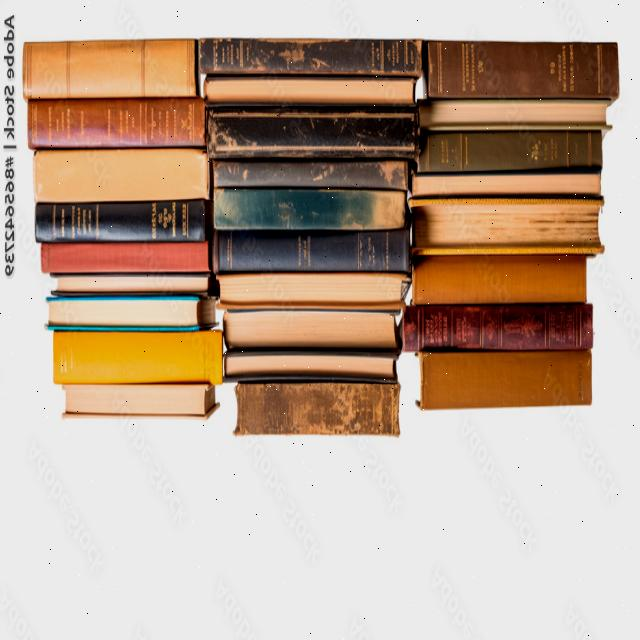book: (421, 42, 617, 102), (415, 352, 591, 412), (205, 110, 413, 158), (53, 330, 221, 385), (197, 39, 414, 80), (27, 100, 202, 150), (214, 232, 405, 275), (416, 132, 600, 174), (404, 308, 590, 349), (36, 207, 207, 240), (42, 242, 212, 274)
